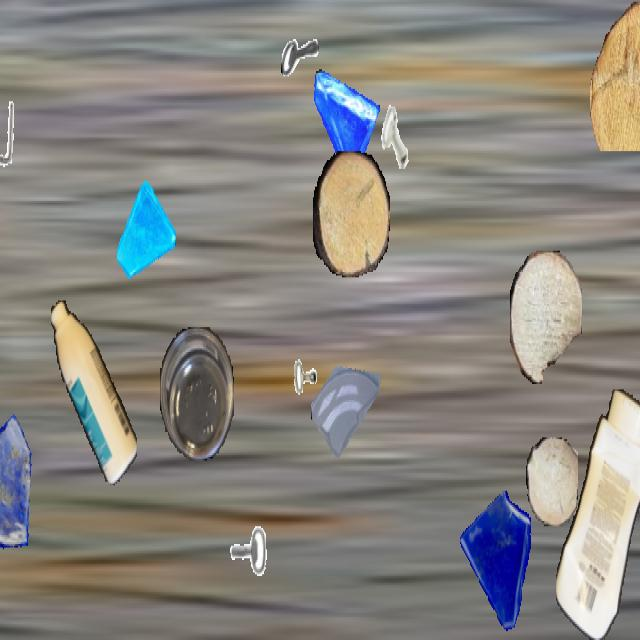glass: (456, 489, 540, 638), (311, 336, 383, 464), (310, 64, 380, 188), (117, 182, 175, 284), (0, 404, 37, 556)
metal: (370, 92, 422, 185), (219, 522, 269, 612), (278, 355, 326, 441), (281, 21, 319, 89), (0, 98, 24, 169)
plastic: (556, 390, 640, 638), (51, 300, 137, 486), (160, 327, 234, 459)
wood: (313, 151, 389, 276), (510, 251, 582, 382), (590, 2, 640, 151), (526, 438, 578, 526)
